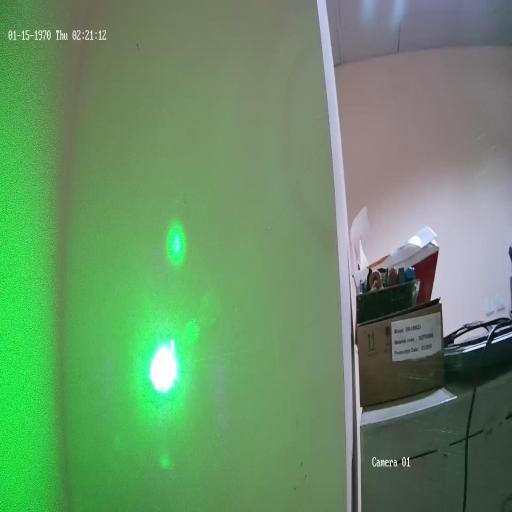laser: (146, 327, 182, 400)
